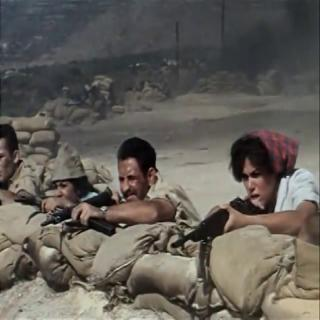gun: (172, 193, 276, 246), (39, 182, 125, 236)
